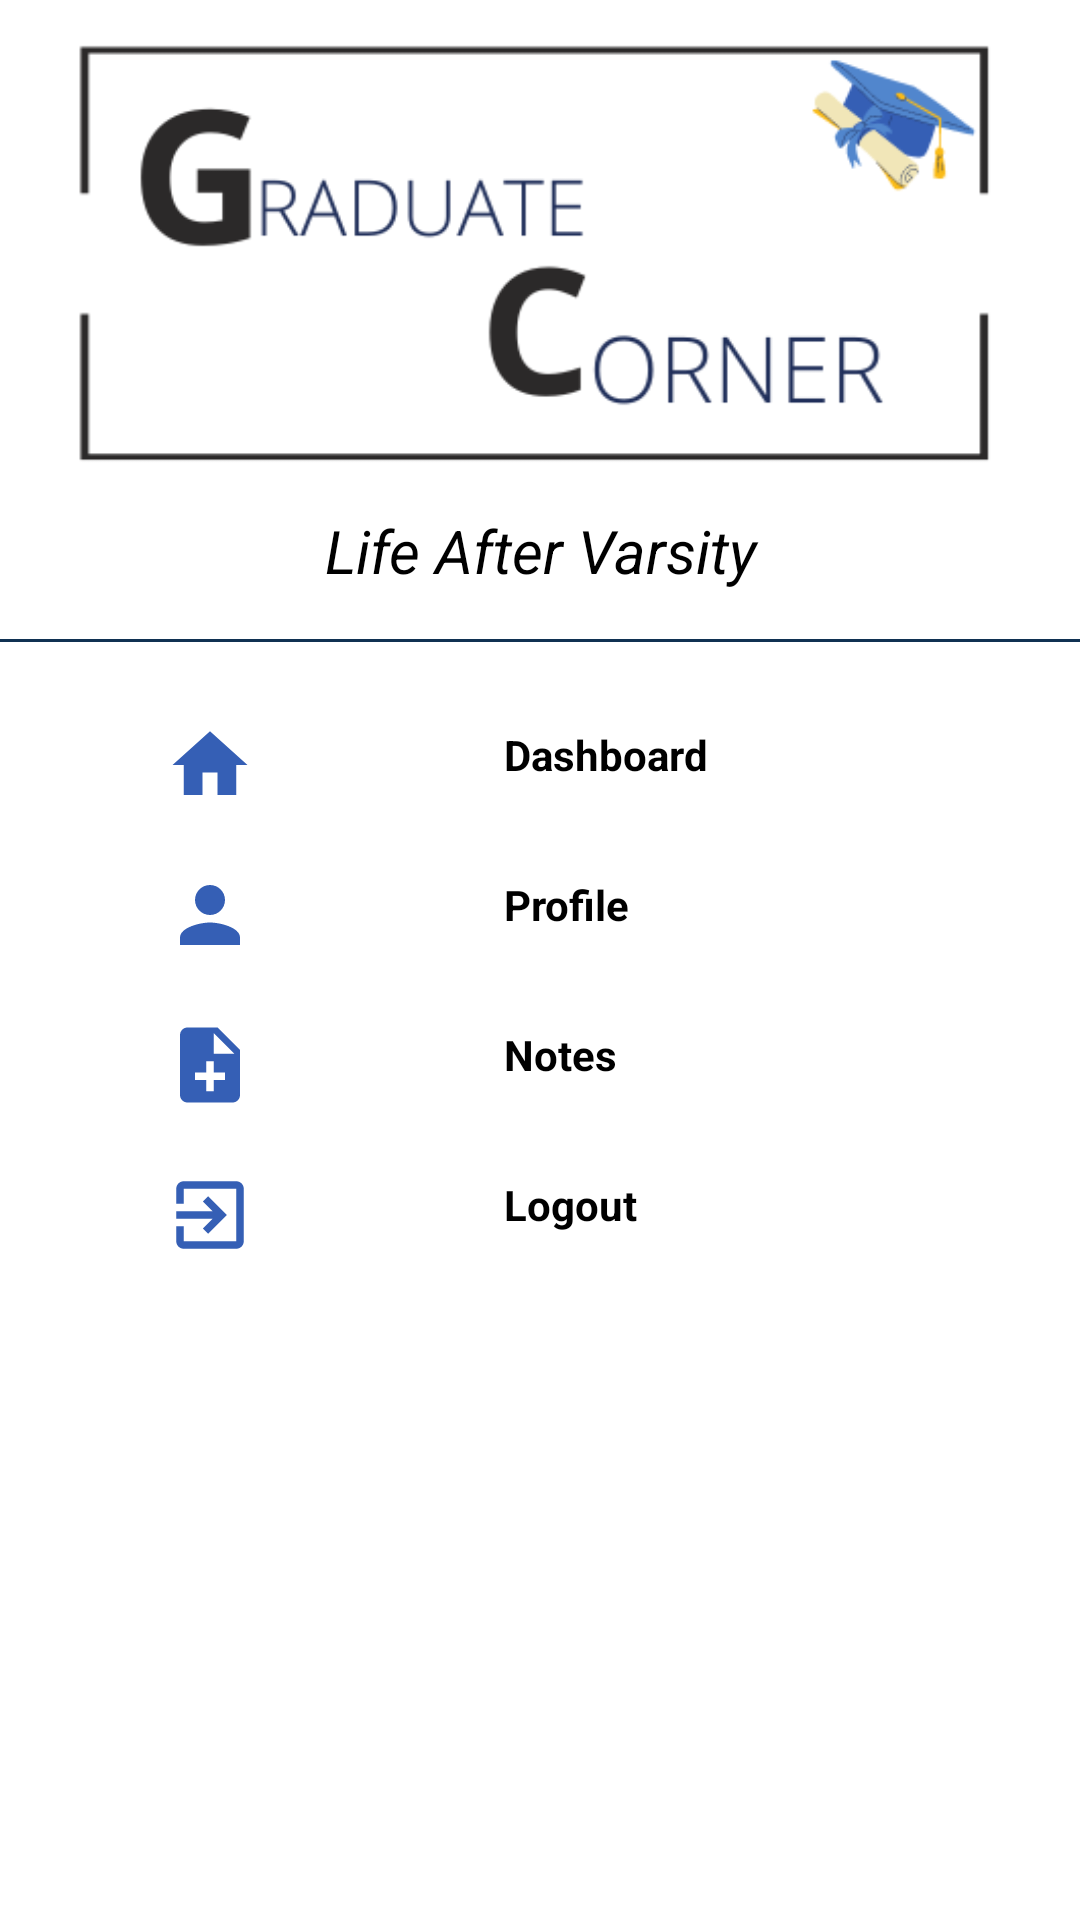

Named icons in this screenshot (1080 × 1920) and their bounding boxes, (x1, y1, x2, y2):
home: (173, 731, 247, 795)
person: (180, 885, 240, 945)
